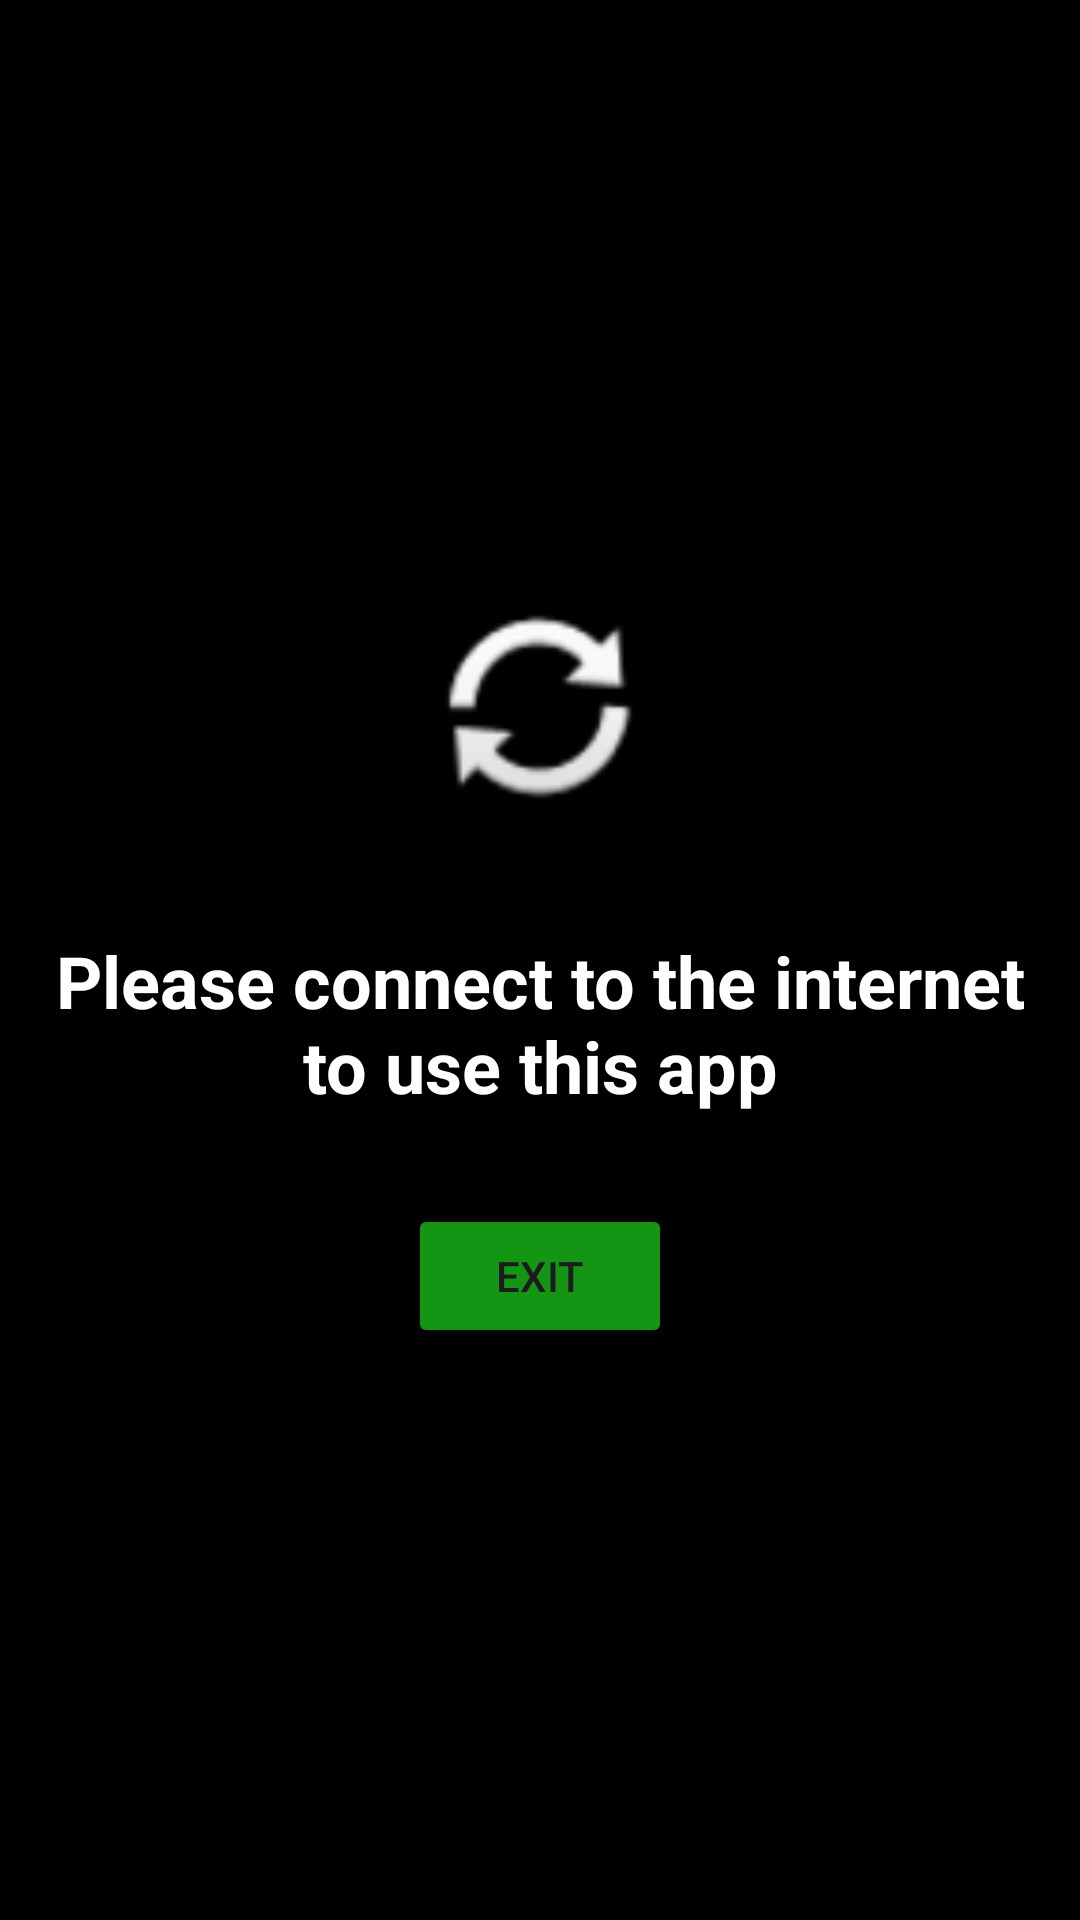

Icons on this 1080×1920 Android screen, each with the point to tap as [x,y]:
popup sync: [539,706]
